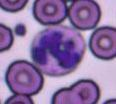N: (30, 26, 84, 76)
